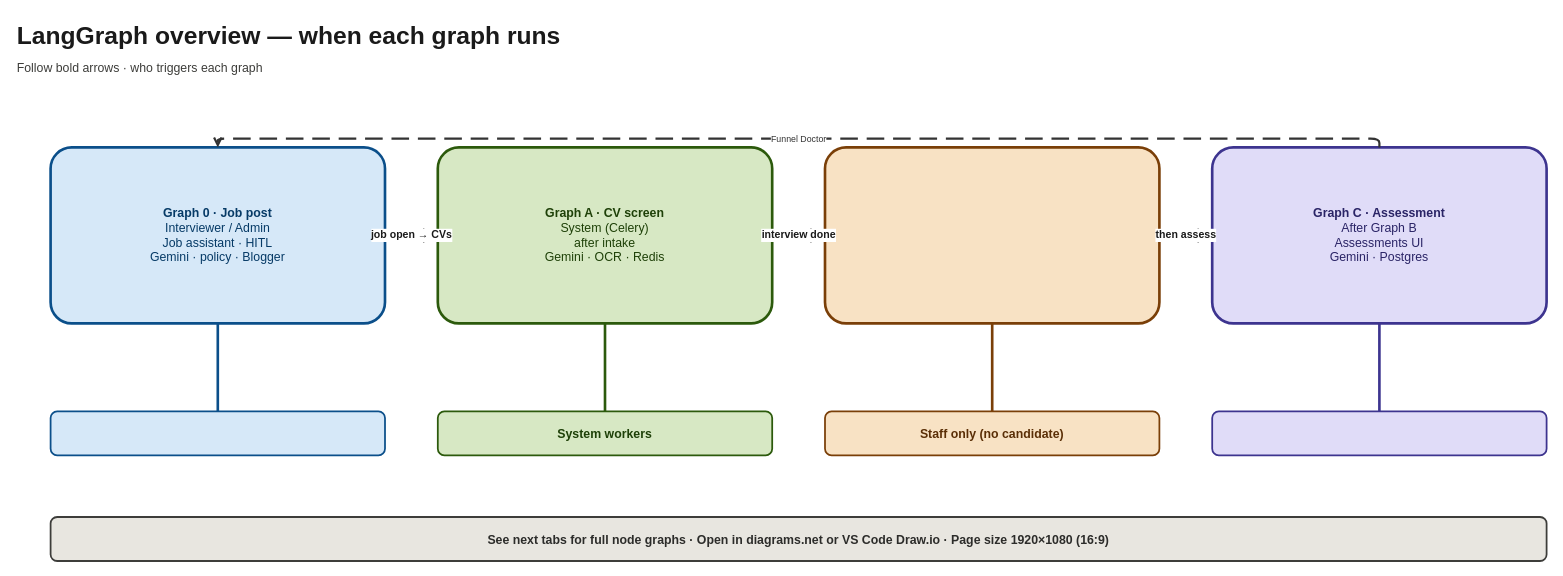
Image size: 1563x576. Some labels were removed from this diagram. The shapes that lost their labels are listed below. From the top down, each one's centre as x and y in pixels, then its label:
(x=991, y=235): Graph B · QA Staff /evaluate after interview Gemini · transcript
(x=217, y=433): Interviewer / Admin
(x=1379, y=433): Staff reports
